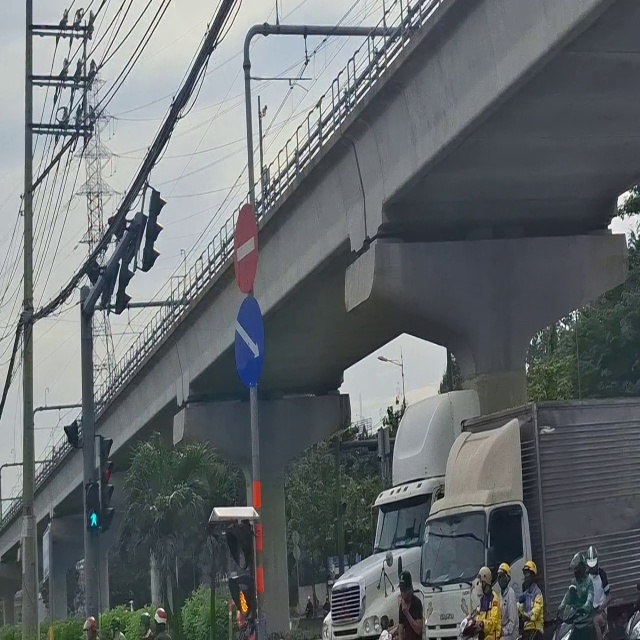cam: (216, 199, 269, 293)
huong di vong sang phai: (218, 302, 279, 389)
